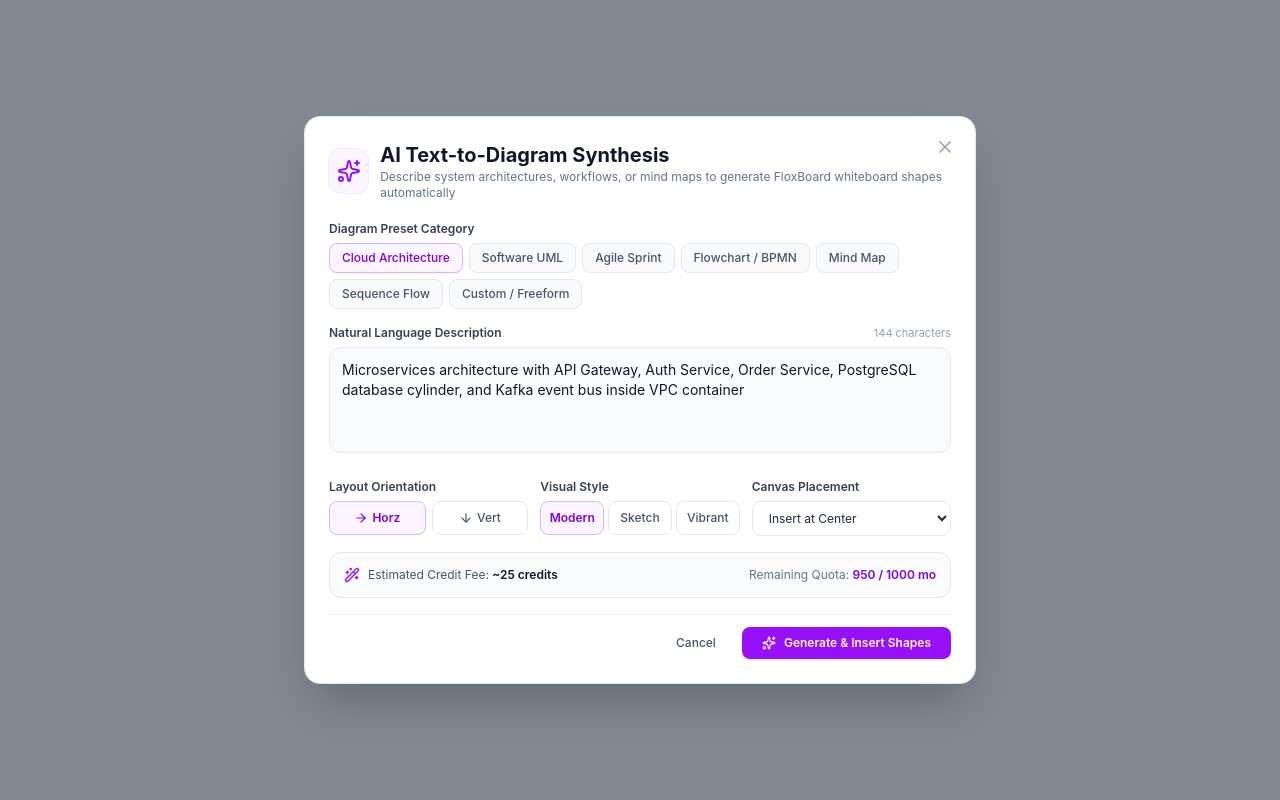
Test: AiDiagramModal › updates prompt when selecting a different preset category
Click the button "Software UML": [522, 258] box [469,243,576,273]
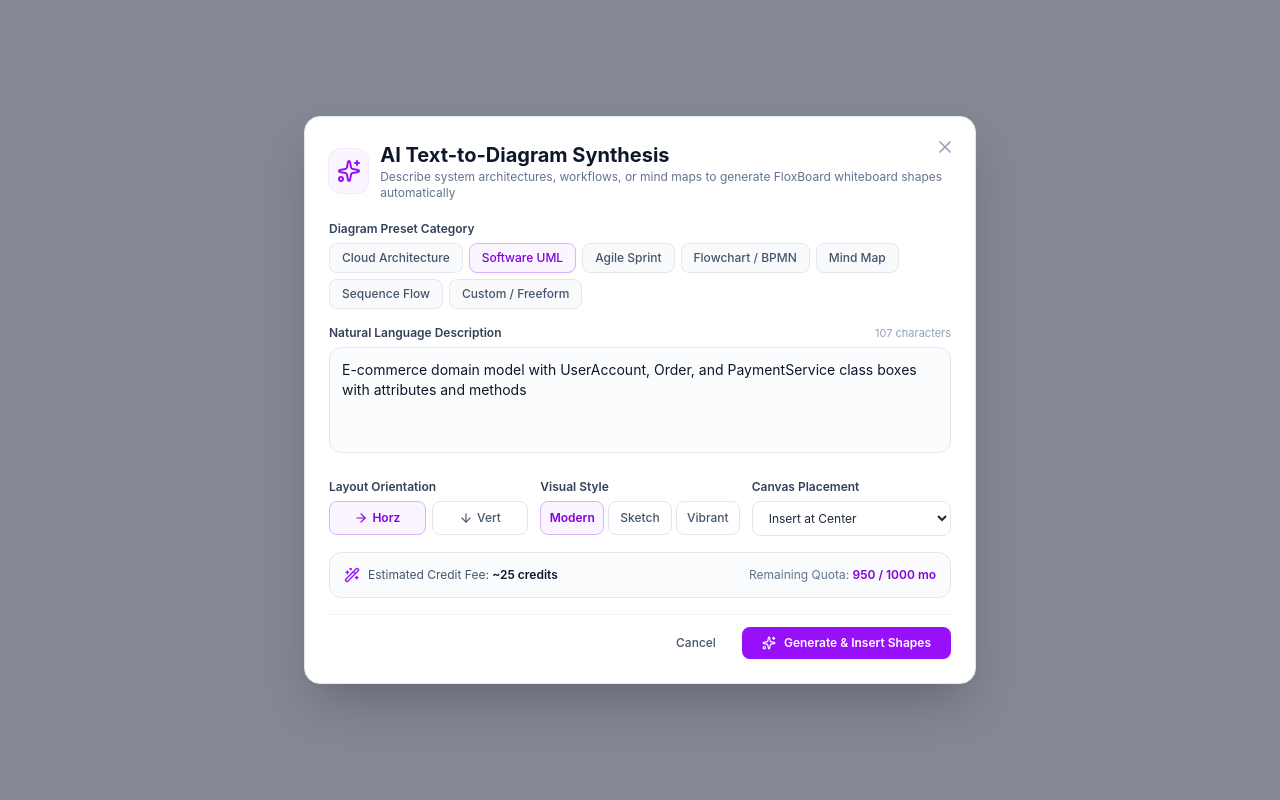
Result: the text box showing "E-commerce domain model with UserAccount" is shown at [329,347,951,453]
